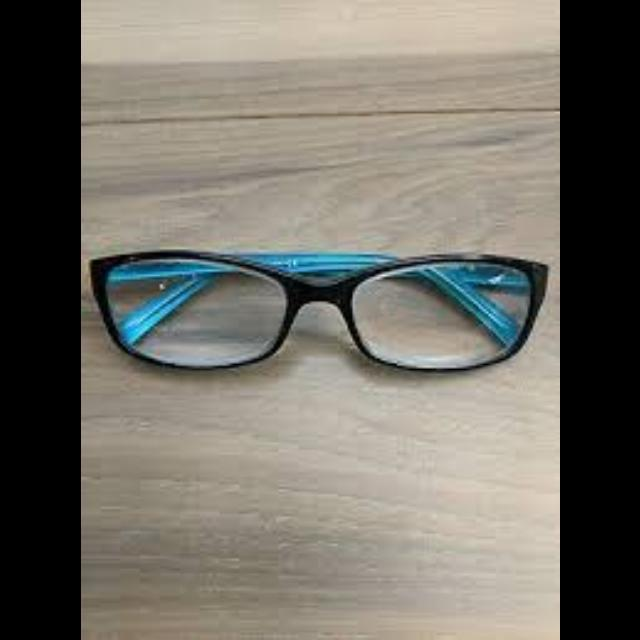glasses: (80, 248, 548, 370)
